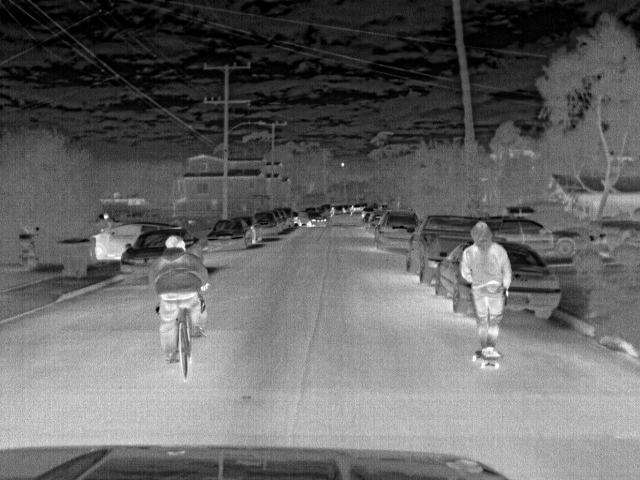car: (495, 241, 563, 322), (404, 213, 471, 283), (495, 219, 582, 256), (95, 223, 173, 264), (435, 241, 474, 322), (118, 228, 170, 284), (377, 213, 420, 249), (206, 220, 252, 252), (249, 213, 280, 237), (275, 205, 296, 231), (298, 211, 327, 228), (274, 210, 291, 234)
person: (153, 236, 212, 368), (458, 220, 514, 358)
